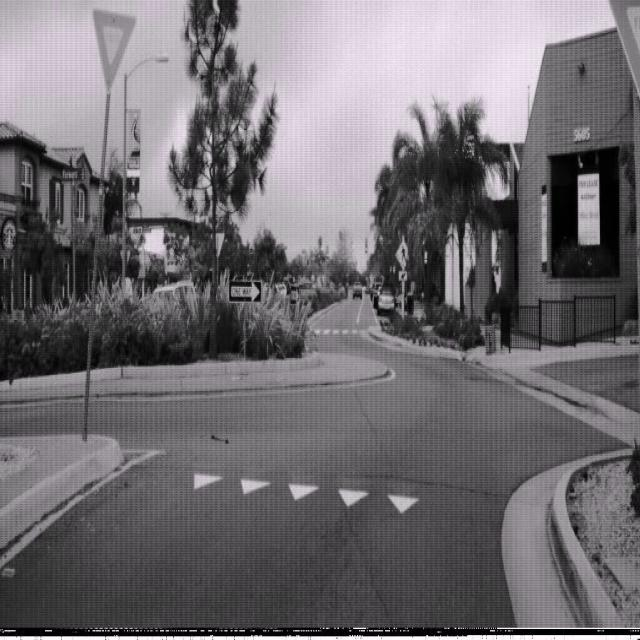pedestrianCrossing: (394, 237, 414, 272)
yield: (92, 6, 136, 92)
